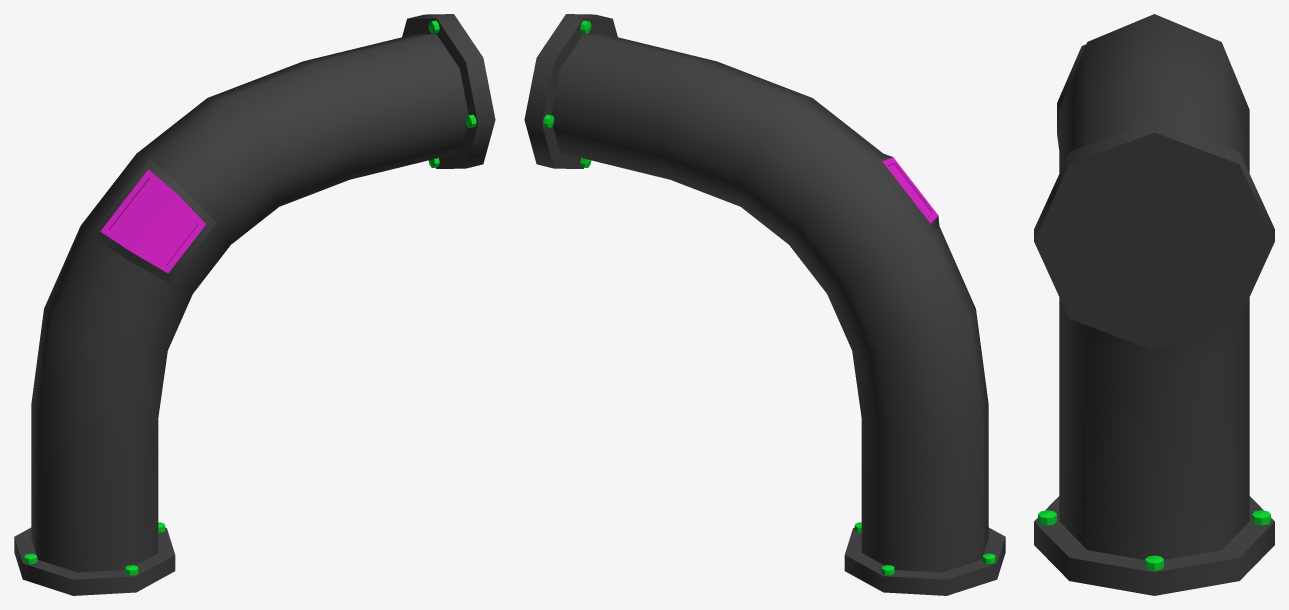
File: SM_ENV_PIPE_TURN_01.FBX
3 renders of one model, left to right at view 1: azimuth 30°, elevation 25°; view 2: azimuth 150°, elevation 25°; view 3: azimuth 270°, elevation 25°, orthographic. The views are drawn at different scales.
Parts seen in each view (by area): view 1: pipe_turn_01; view 2: pipe_turn_01; view 3: pipe_turn_01.
Part boxes in pixels (box(x1,y1,x2,y2)): pipe_turn_01: box(14, 14, 495, 595); pipe_turn_01: box(524, 14, 1005, 595); pipe_turn_01: box(1034, 14, 1274, 595).
Size of the model in its own units: 136 by 139 by 45.44.
